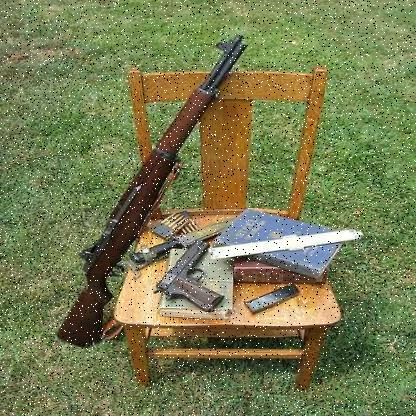gun: (153, 238, 225, 311)
rifle: (54, 31, 251, 352)
